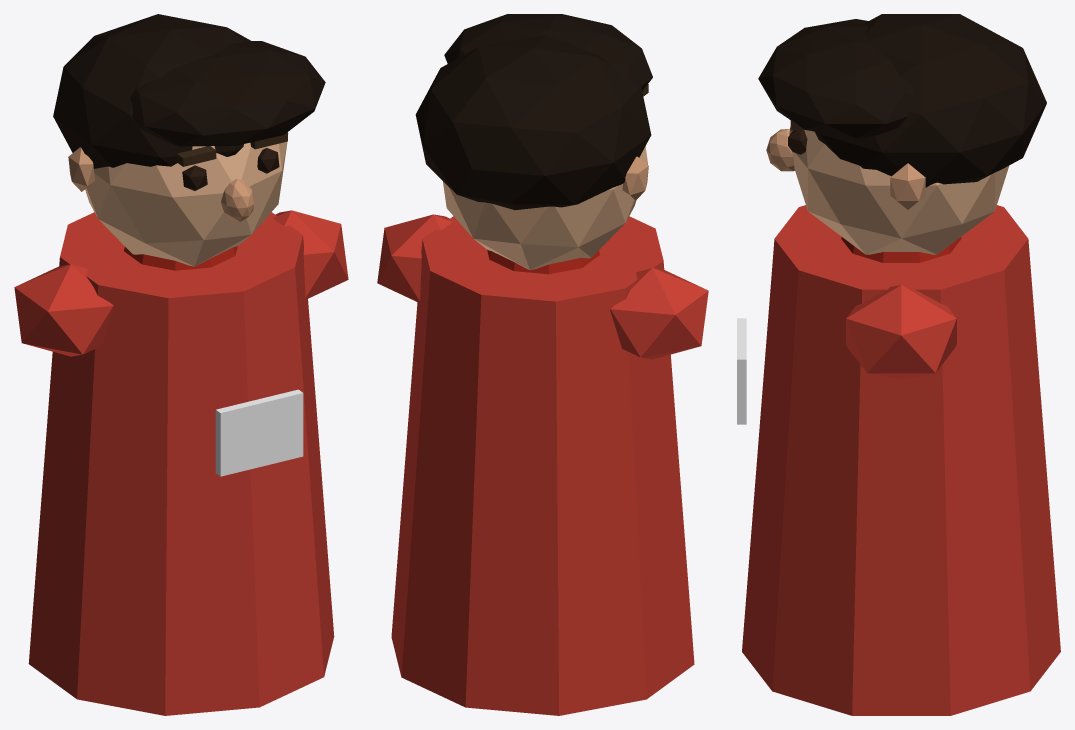
The model's file is insan_e0s_govde.glb.
3 renders of one model, left to right at view 1: azimuth 30°, elevation 25°; view 2: azimuth 150°, elevation 25°; view 3: azimuth 270°, elevation 25°, orthographic. The views are drawn at different scales.
Parts seen in each view (by area): view 1: Cone; view 2: Cone; view 3: Cone.
Boxes of the visible parts, box(x1,y1,x2,y2) form: Cone: box(14, 14, 348, 715); Cone: box(377, 14, 708, 715); Cone: box(737, 14, 1060, 715).
Bounding box in the file's own units: 0.1158 × 0.2126 × 0.0995.
